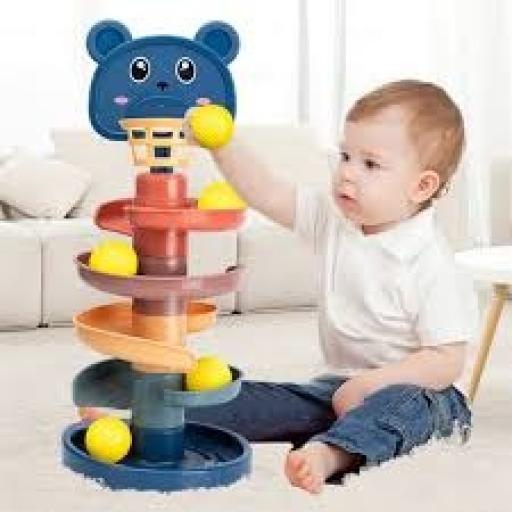baby: (189, 80, 475, 493)
